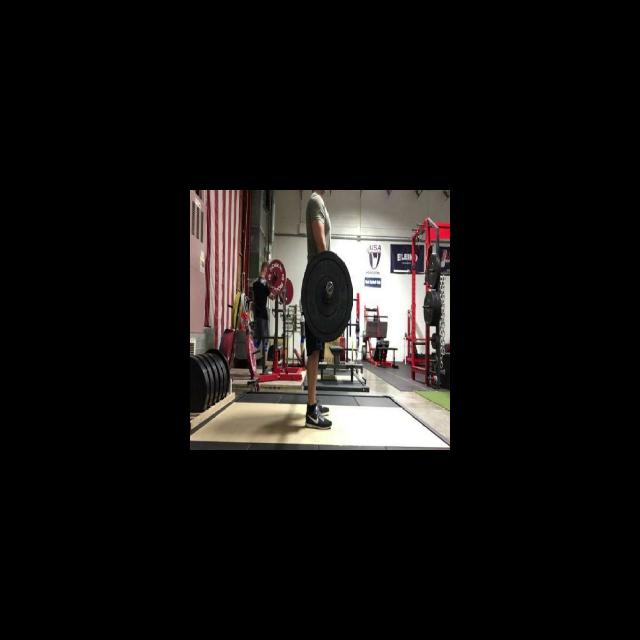barbell: (300, 248, 354, 343)
